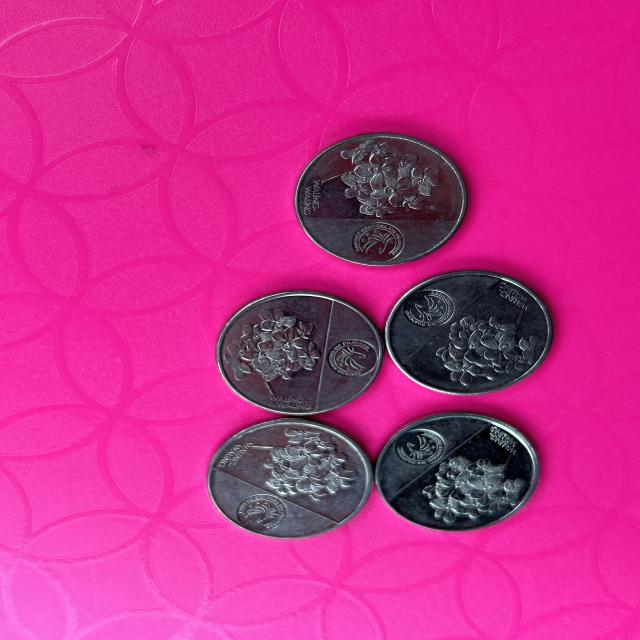1_New_Back: (235, 416, 370, 501), (332, 140, 445, 220), (224, 306, 323, 393), (430, 306, 536, 386), (413, 450, 522, 520)
